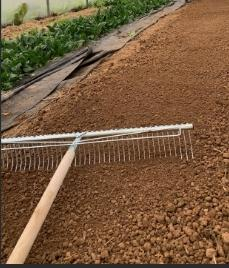RATEAU: (1, 45, 229, 268)
